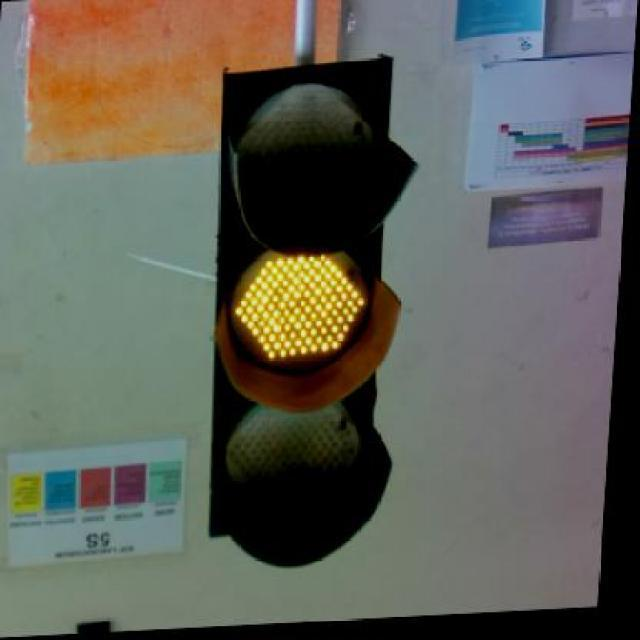yellow_light: (210, 58, 416, 566)
